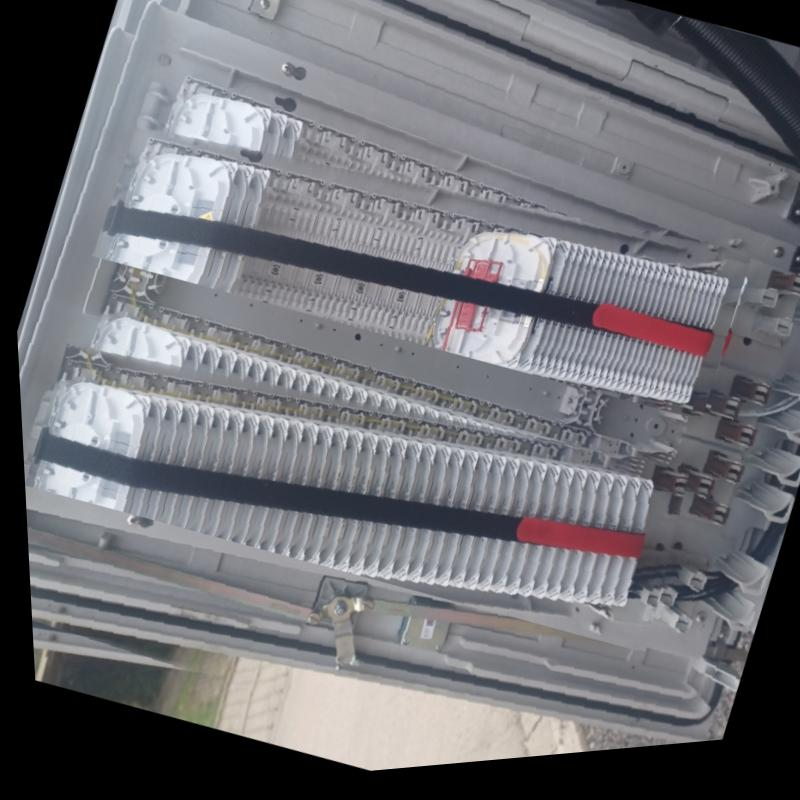NT-Gehause: (14, 0, 800, 755)
Spleiskassetten: (89, 122, 742, 430), (22, 350, 685, 630)
